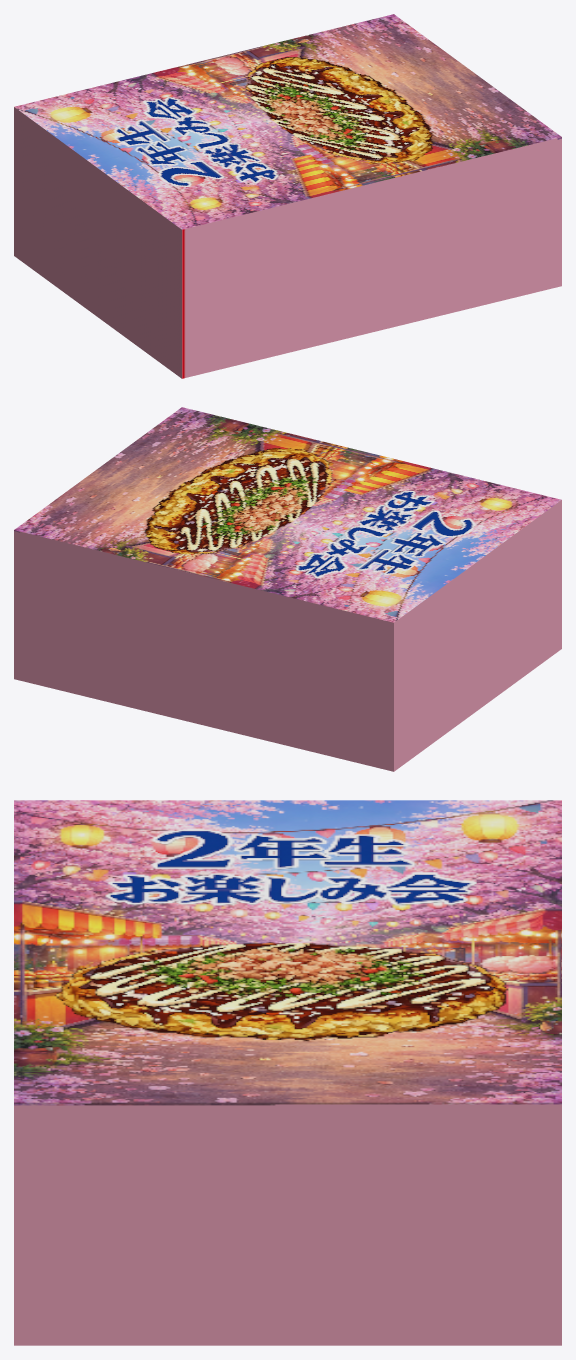
The picture shows the model from 3 angles, top to bottom: view 1: azimuth 30°, elevation 25°; view 2: azimuth 150°, elevation 25°; view 3: azimuth 270°, elevation 25°; orthographic projection. The views are drawn at different scales.
Parts seen in each view (by area): view 1: 立方体; view 2: 立方体; view 3: 立方体.
Boxes of the visible parts, x1,y1,x2,y2 form: 立方体: (14,14,561,378); 立方体: (14,407,561,771); 立方体: (14,800,561,1345).
Size of the model in its own units: 3.89 by 1.46 by 2.98.
1 material, 1 textured.
